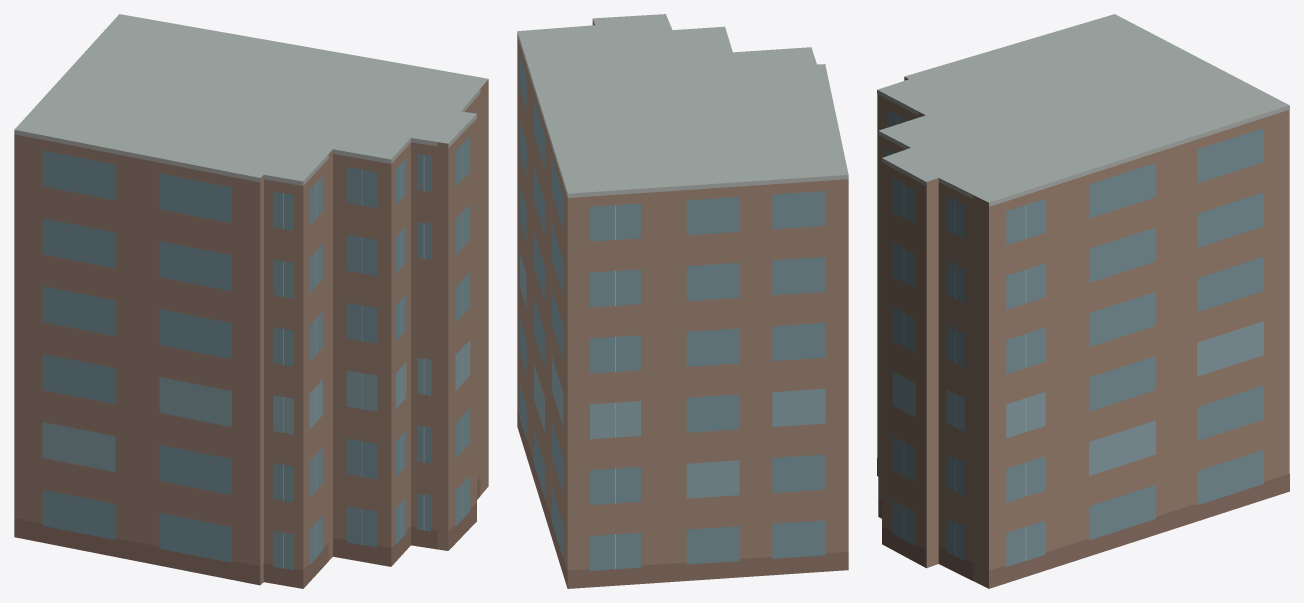
File: survey-upis-33005556.glb
3 renders of one model, left to right at view 1: azimuth 30°, elevation 25°; view 2: azimuth 150°, elevation 25°; view 3: azimuth 270°, elevation 25°, orthographic. The views are drawn at different scales.
Visible parts, largest first — view 1: survey-upis-33005556.tmp; view 2: survey-upis-33005556.tmp; view 3: survey-upis-33005556.tmp.
Part boxes in pixels (<box>): survey-upis-33005556.tmp: <box>14,14,488,588</box>; survey-upis-33005556.tmp: <box>517,14,848,588</box>; survey-upis-33005556.tmp: <box>877,14,1289,588</box>.
Bounding box in the file's own units: 23.38 × 22.3 × 21.6.
